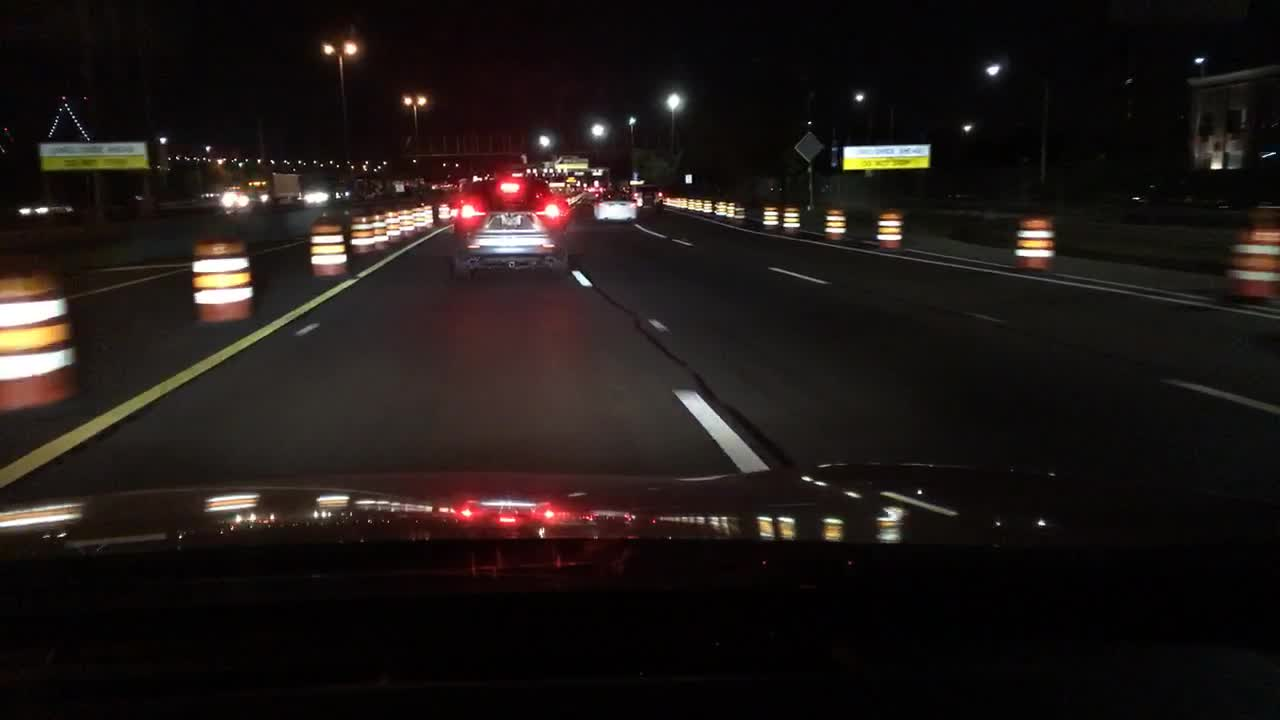car: (447, 174, 571, 280), (586, 184, 640, 227), (296, 177, 355, 212), (621, 177, 666, 217), (20, 196, 78, 219), (430, 177, 459, 193), (545, 179, 571, 192), (561, 179, 582, 193), (585, 183, 601, 197), (583, 184, 601, 193)
traffic sign: (39, 142, 150, 172), (840, 142, 932, 172), (793, 131, 826, 162), (546, 156, 591, 171), (588, 166, 606, 177), (393, 177, 406, 192), (681, 171, 692, 186)
truck: (212, 164, 301, 214)
